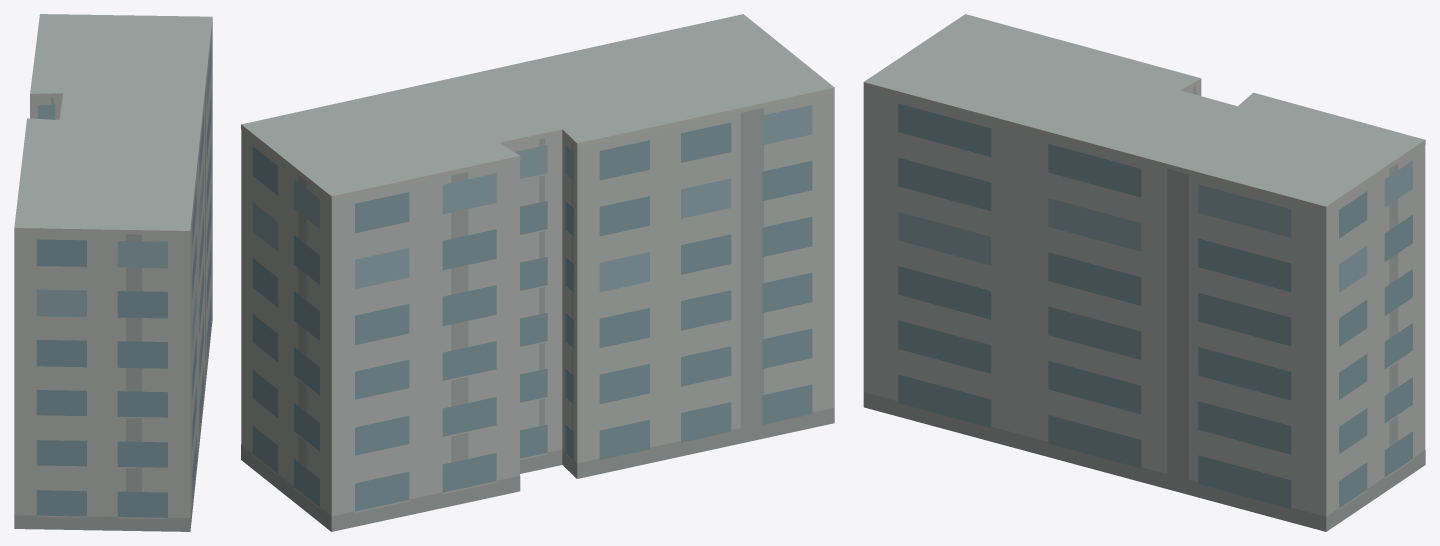
Rendered from survey-upis-32512594.glb.
3 renders of one model, left to right at view 1: azimuth 30°, elevation 25°; view 2: azimuth 150°, elevation 25°; view 3: azimuth 270°, elevation 25°, orthographic. The views are drawn at different scales.
Visible parts, largest first — view 1: survey-upis-32512594.tmp; view 2: survey-upis-32512594.tmp; view 3: survey-upis-32512594.tmp.
Part boxes in pixels (bbox=[...]): survey-upis-32512594.tmp: bbox=[14, 14, 212, 531]; survey-upis-32512594.tmp: bbox=[241, 14, 834, 531]; survey-upis-32512594.tmp: bbox=[863, 14, 1425, 531].
Size of the model in its own units: 21.1 by 16.6 by 26.
